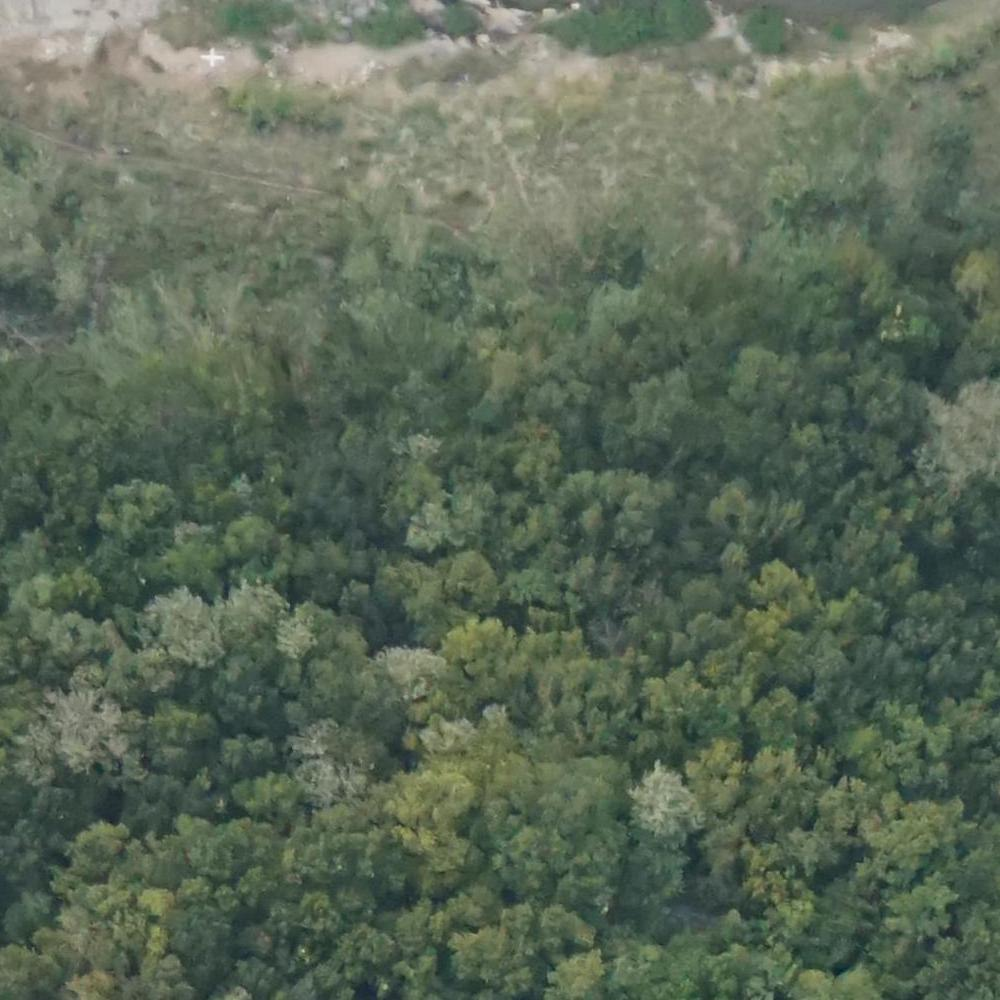tree: (292, 720, 368, 796), (140, 596, 226, 658), (38, 700, 112, 768), (374, 646, 439, 719), (635, 775, 701, 843), (510, 423, 576, 488), (103, 485, 177, 542), (683, 746, 743, 807), (552, 949, 620, 1000), (419, 766, 477, 825), (70, 823, 131, 874), (406, 499, 458, 552), (446, 554, 494, 607), (903, 877, 948, 932), (229, 523, 282, 563)
